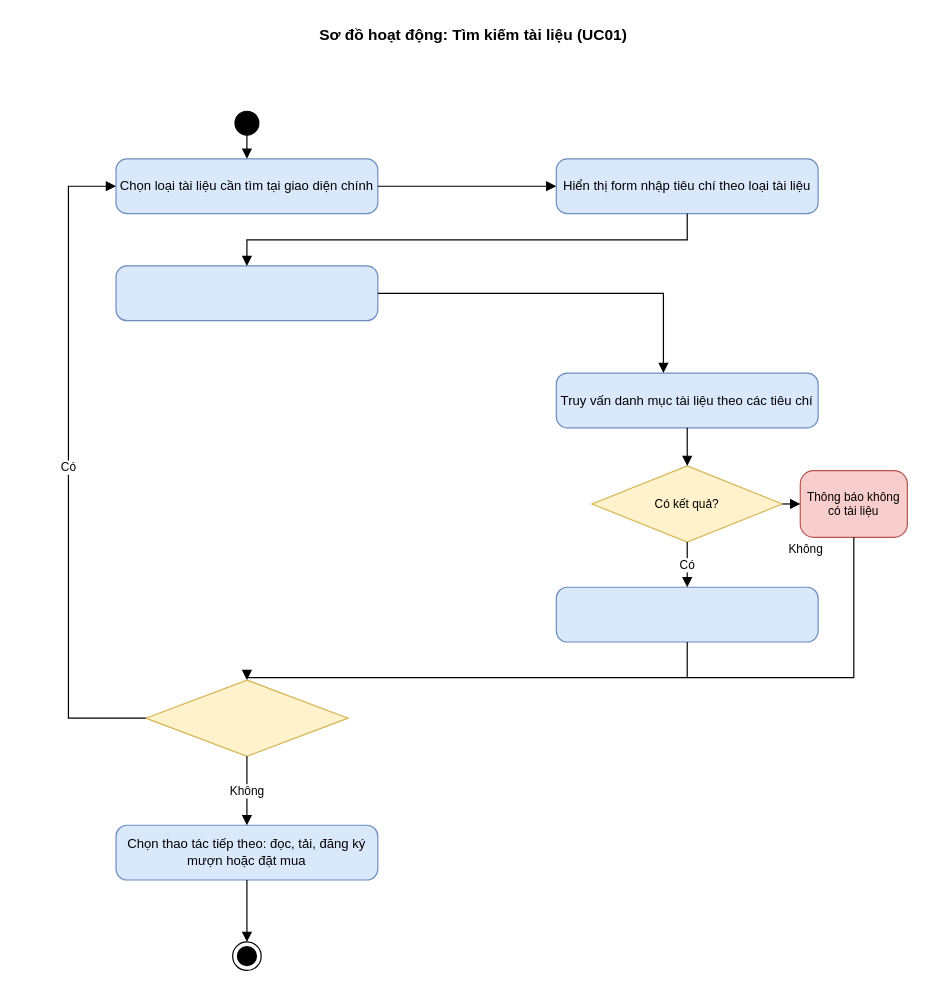
Image size: 945x991. Some labels were removed from this diagram. Each missing label, with the box of its shape:
Hiển thị danh sách kết quả (tựa đề, tác giả, loại, số lượng còn): (555, 586, 818, 642)
Nhập tựa sách / tác giả / chủ đề / năm XB / từ khóa, bấm Tìm kiếm: (115, 265, 378, 321)
Tìm tài liệu khác?: (145, 679, 348, 756)
